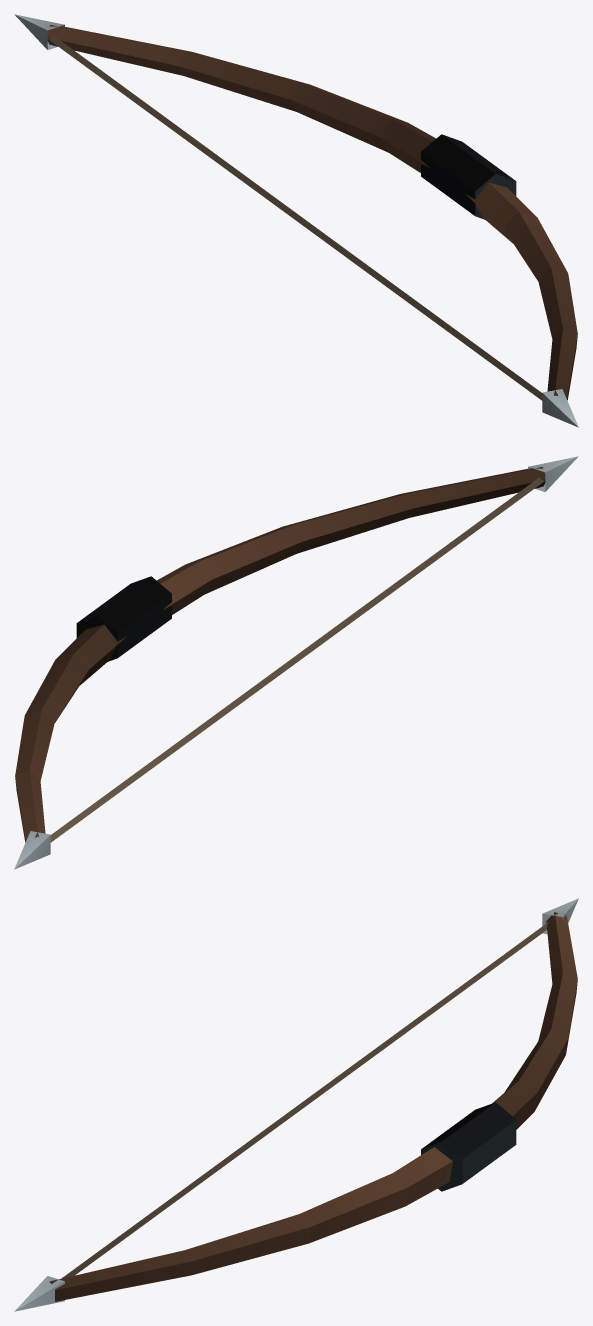
File: ranger_longbow_1.gltf
3 views of the same model, one above another, from view 1: azimuth 30°, elevation 25°; view 2: azimuth 150°, elevation 25°; view 3: azimuth 330°, elevation 25° (orthographic).
Parts seen in each view (by area): view 1: ranger_longbow_1; view 2: ranger_longbow_1; view 3: ranger_longbow_1.
Boxes of the visible parts, x1,y1,x2,y2 form: ranger_longbow_1: (14, 14, 578, 427); ranger_longbow_1: (14, 456, 578, 869); ranger_longbow_1: (14, 898, 578, 1311).
Bounding box in the file's own units: 0.4967 × 0.1216 × 2.5.
1 material, 1 textured.
